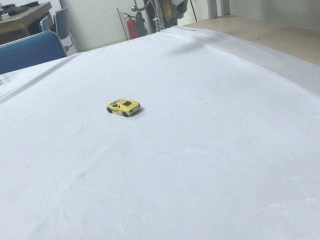toy_car: (107, 99, 142, 116)
